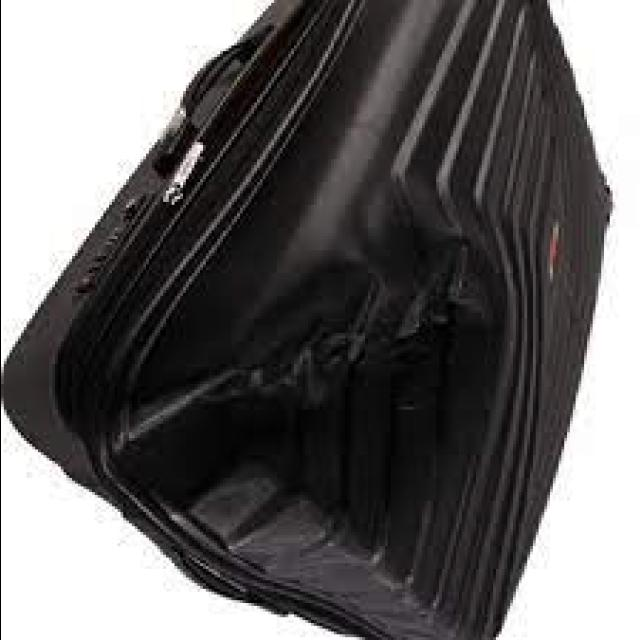Damage-bag: (58, 182, 502, 549)
